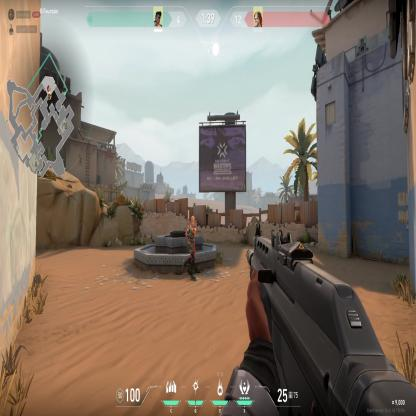enemy: (181, 214, 198, 284)
